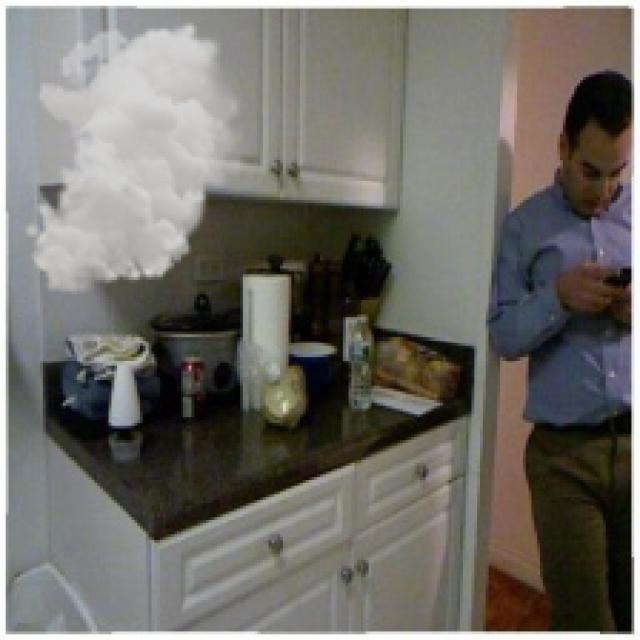Smoke: (22, 19, 252, 294)
